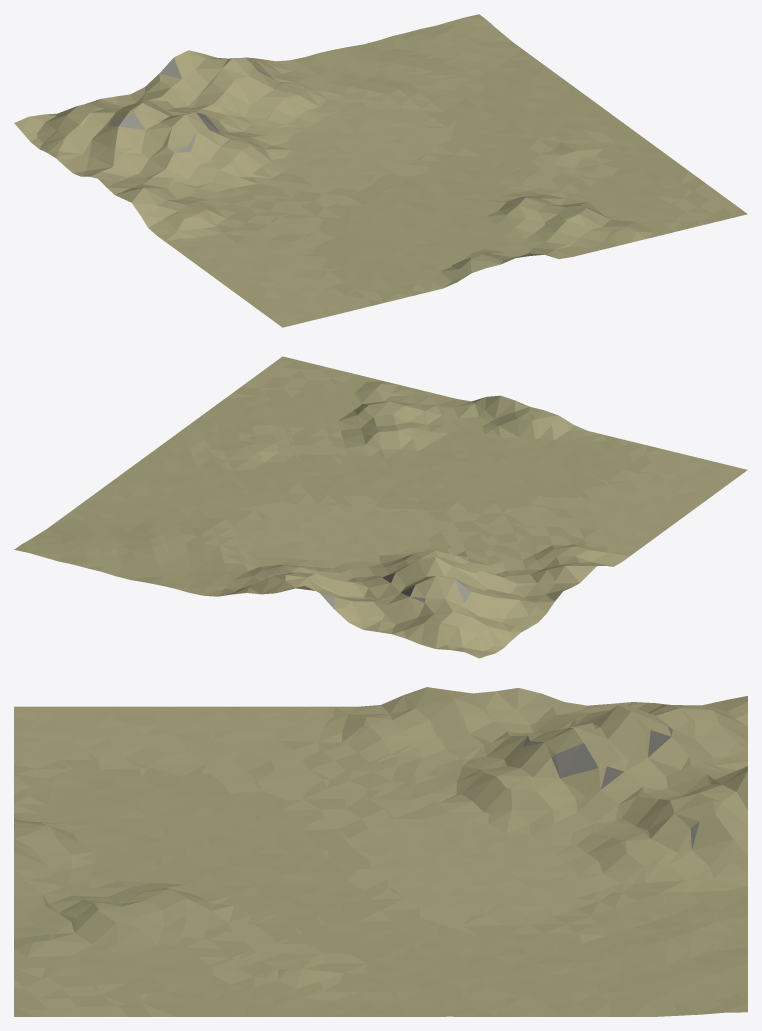
File: Ground_-1_-8.glb
The picture shows the model from 3 angles, top to bottom: view 1: azimuth 30°, elevation 25°; view 2: azimuth 150°, elevation 25°; view 3: azimuth 270°, elevation 25°; orthographic projection. The views are drawn at different scales.
Parts seen in each view (by area): view 1: Ground_-1_-8; view 2: Ground_-1_-8; view 3: Ground_-1_-8.
Boxes of the visible parts, <box> form: Ground_-1_-8: <box>14,14,747,327</box>; Ground_-1_-8: <box>14,356,747,658</box>; Ground_-1_-8: <box>14,687,747,1016</box>.
Bounding box in the file's own units: 768 × 60.74 × 768.
